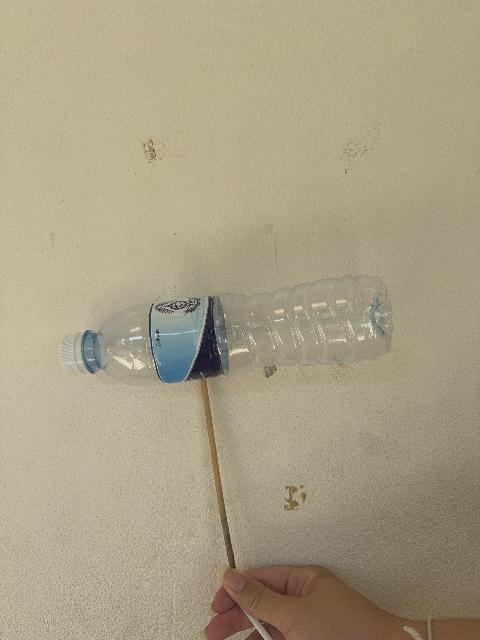bottle: (60, 276, 392, 385)
